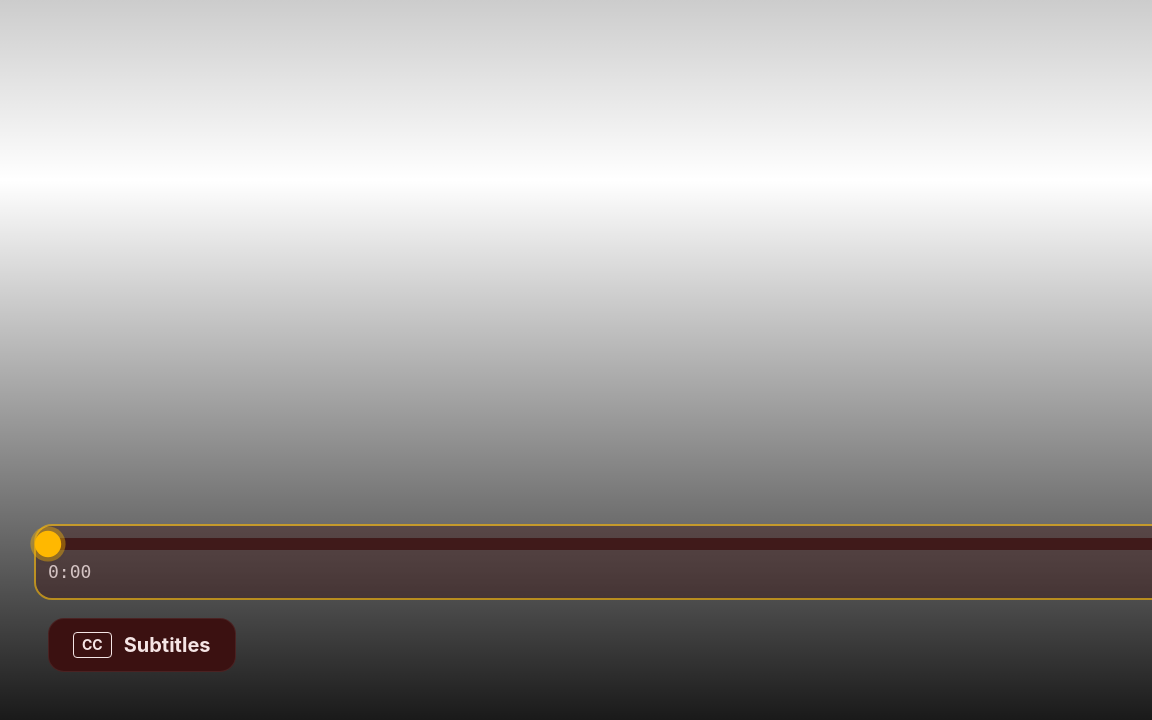
Test: PlayerScreen › Subtitle Discovery & Track Selection › pauses OSD auto-hide while subtitle popup is open and playing
(page scrolled)
Note: Open subtitles popup
Click the button with test id "subtitles-button" at (142, 645), box [48,618,236,672]
Wait 5000 ms
(page scrolled)
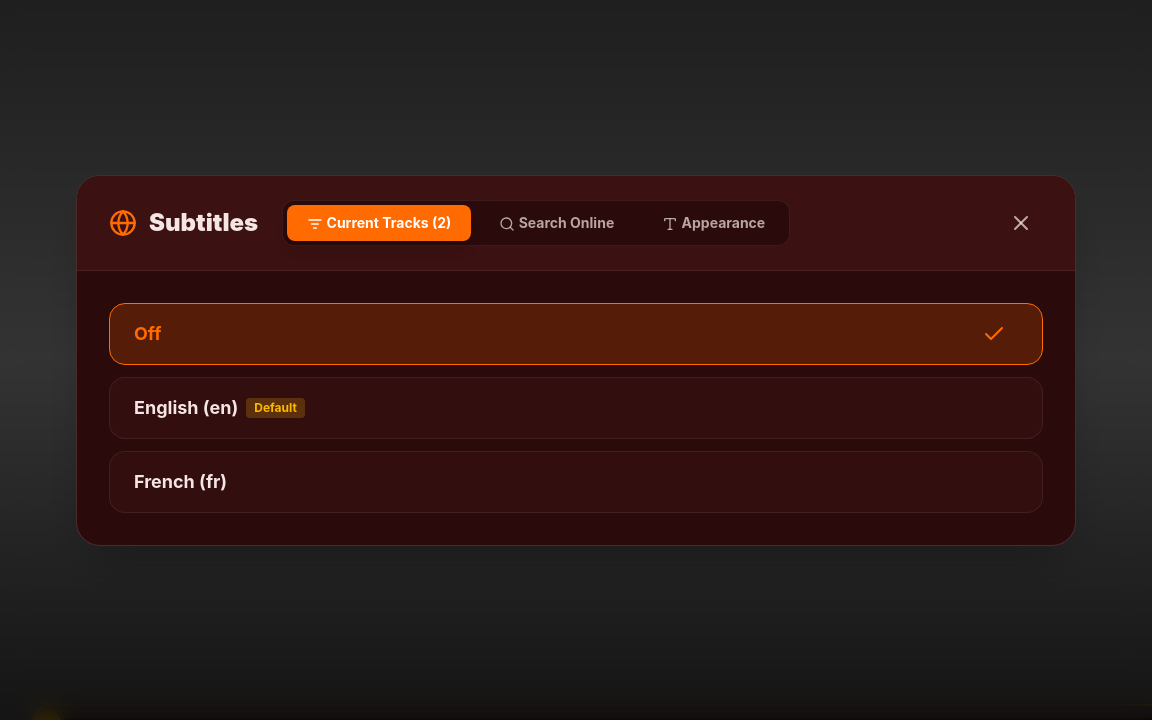
Check: the dialog with test id "subtitles-popup" is shown
